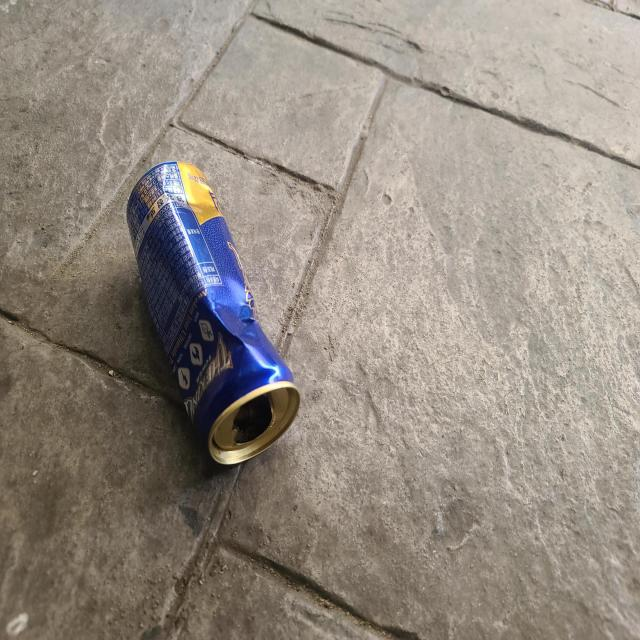can: (127, 160, 300, 465)
